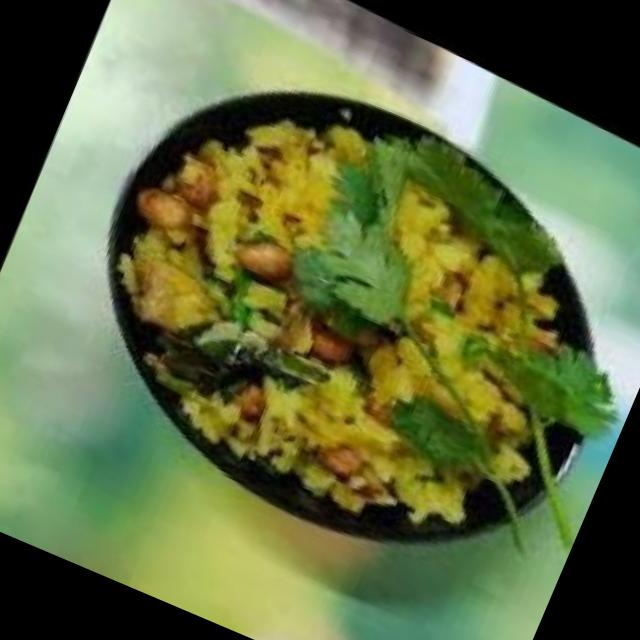poha: (49, 48, 628, 574)
